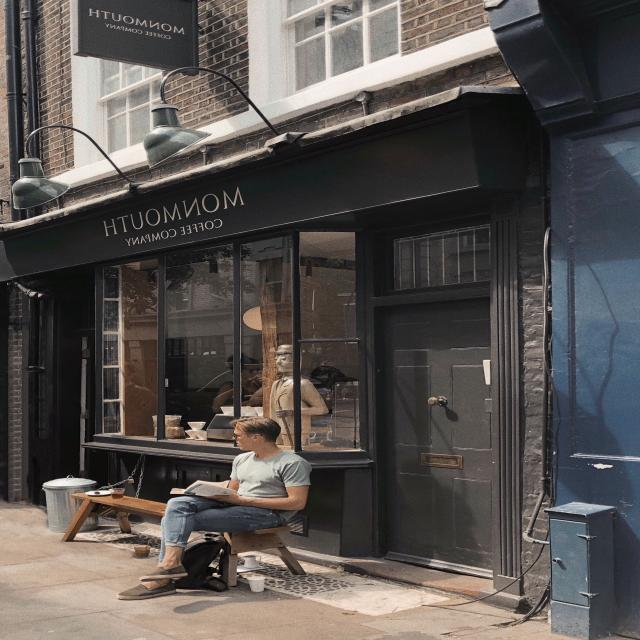adult: (114, 418, 316, 608)
